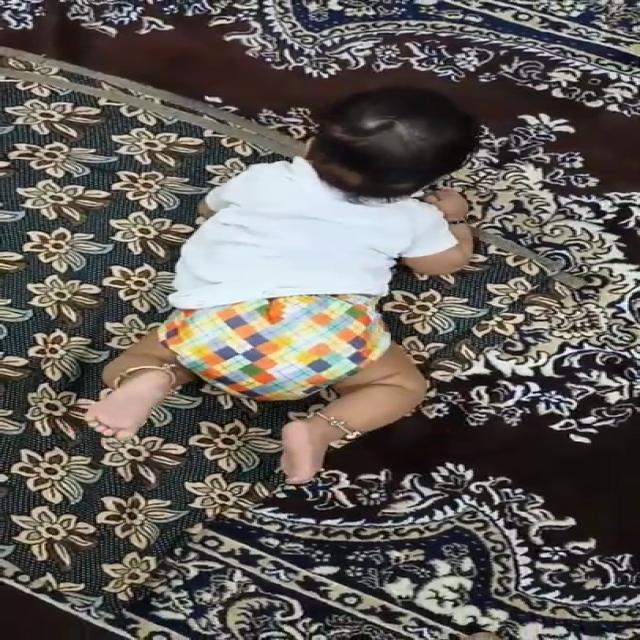baby: (84, 87, 489, 485)
